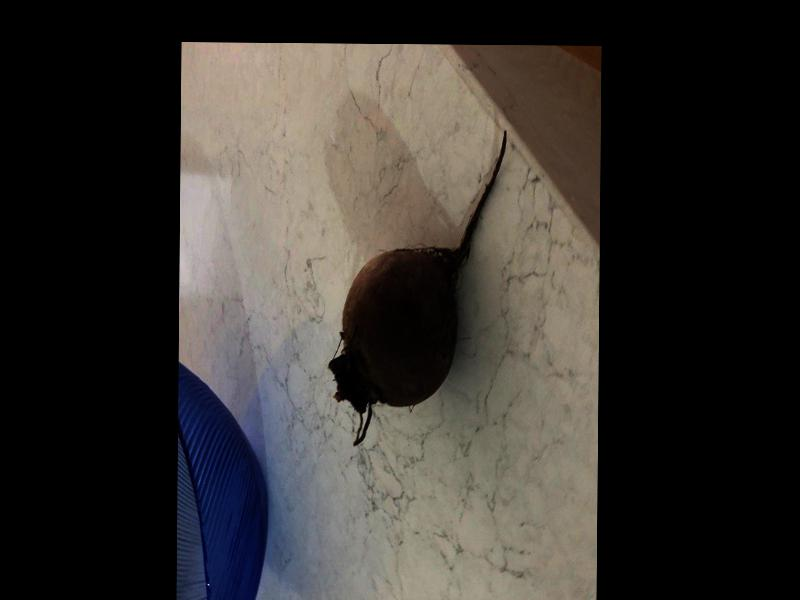Beet: (329, 130, 507, 445)
